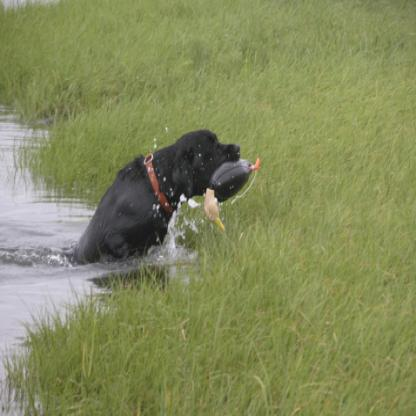Labarador Retriever: (73, 127, 239, 266)
